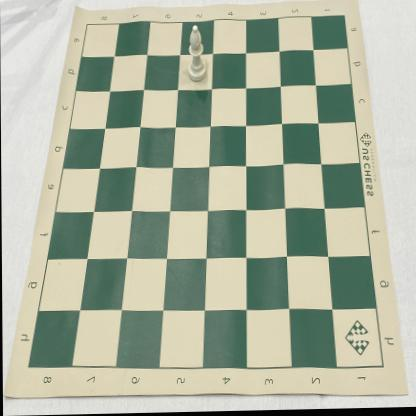white-bishop: (187, 26, 208, 84)
